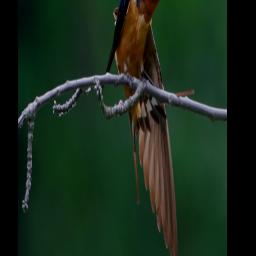Swallow: (100, 0, 180, 256)
